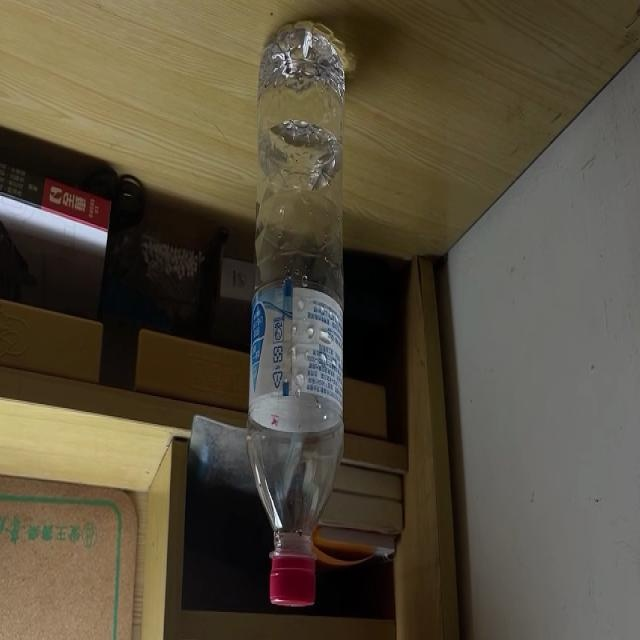Water: (250, 18, 344, 606)
